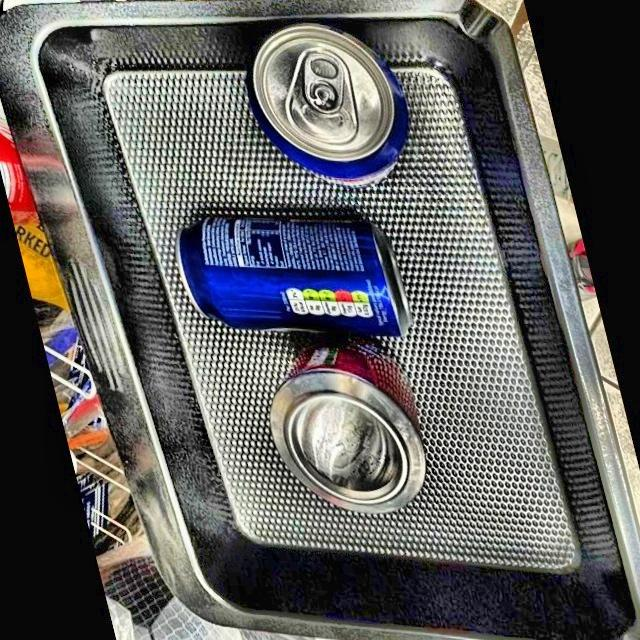coke-can: (270, 346, 430, 521)
pepsi-can: (170, 207, 419, 347), (247, 20, 395, 192)
